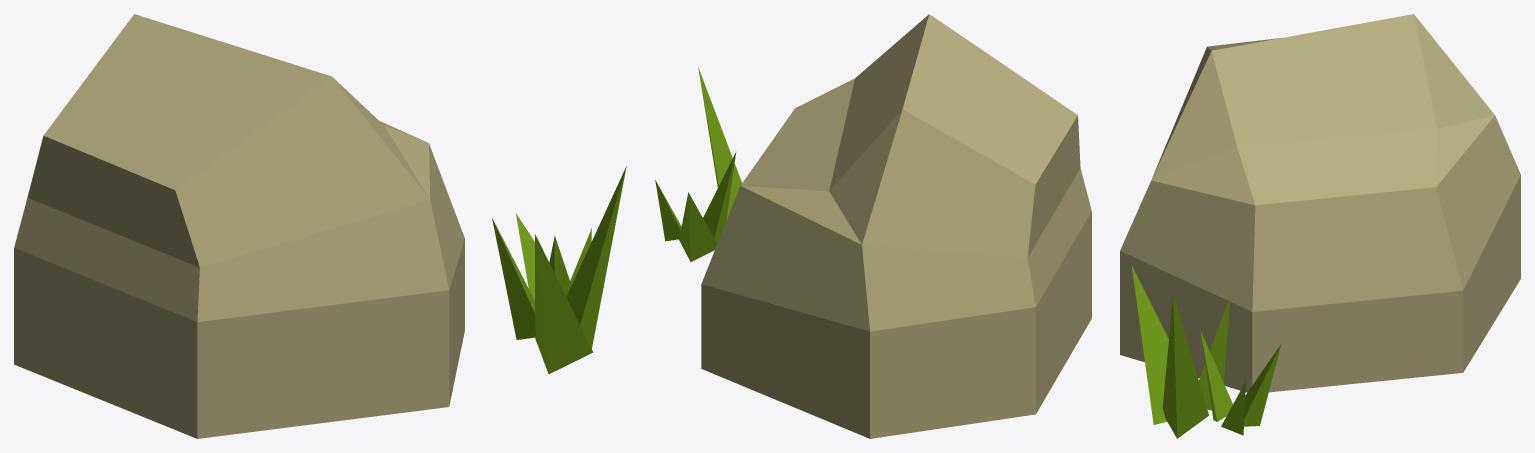
File: Human-StoneRes1.fbx
The picture shows the model from 3 angles, left to right: view 1: azimuth 30°, elevation 25°; view 2: azimuth 150°, elevation 25°; view 3: azimuth 270°, elevation 25°; orthographic projection. The views are drawn at different scales.
Parts seen in each view (by area): view 1: Human-Stone-Res-1; view 2: Human-Stone-Res-1; view 3: Human-Stone-Res-1.
Part boxes in pixels (box(x1,y1,x2,y2)): Human-Stone-Res-1: box(14, 14, 626, 438); Human-Stone-Res-1: box(655, 14, 1091, 438); Human-Stone-Res-1: box(1120, 14, 1520, 438).
Size of the model in its own units: 0.9454 by 0.742 by 0.5907.
